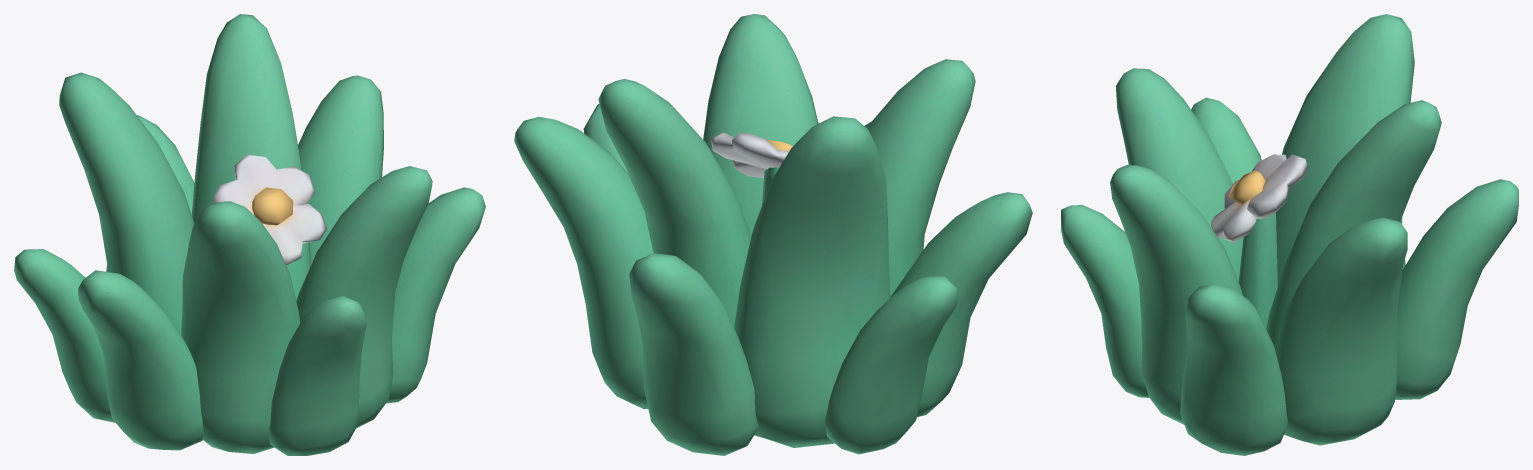
File: tuft.glb
3 renders of one model, left to right at view 1: azimuth 30°, elevation 25°; view 2: azimuth 150°, elevation 25°; view 3: azimuth 270°, elevation 25°, orthographic. The views are drawn at different scales.
Parts seen in each view (by area): view 1: geometry_0; view 2: geometry_0; view 3: geometry_0.
Boxes of the visible parts, x1=… form: geometry_0: x1=14, y1=14, x2=485, y2=455; geometry_0: x1=514, y1=14, x2=1032, y2=455; geometry_0: x1=1061, y1=14, x2=1518, y2=455.
Bounding box in the file's own units: 1 × 0.7799 × 1.
1 material, 1 textured.
